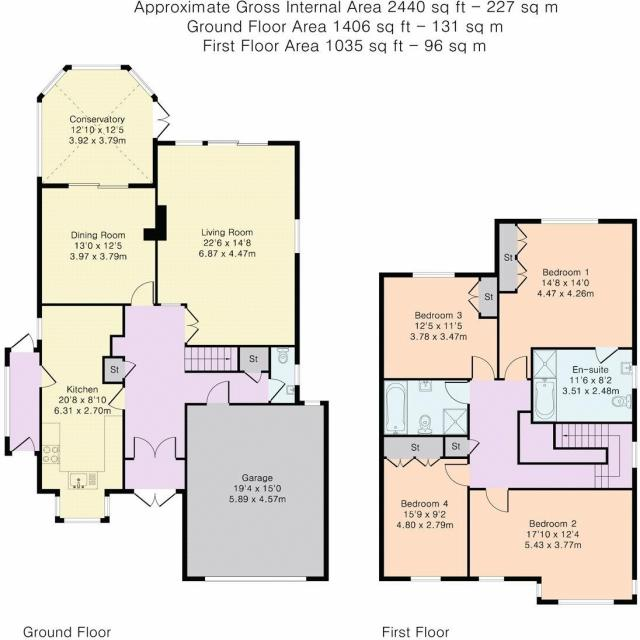DOOR: (443, 462, 470, 487), (444, 380, 470, 405), (206, 380, 231, 406), (130, 281, 155, 306), (504, 355, 528, 381), (485, 488, 509, 513), (471, 355, 495, 380), (11, 435, 36, 456), (10, 332, 35, 353), (39, 364, 58, 389), (268, 378, 287, 402), (595, 347, 619, 365), (107, 387, 125, 410)
ROOM: (152, 140, 300, 347), (494, 218, 637, 381), (467, 487, 638, 605), (36, 303, 126, 523), (37, 183, 158, 306), (379, 435, 470, 581), (379, 272, 500, 380)
SLIDING DOOR: (67, 179, 132, 191), (206, 139, 270, 147)
WINDOW: (3, 365, 11, 438), (557, 599, 615, 605), (541, 218, 599, 224), (63, 517, 101, 524), (412, 272, 455, 278), (410, 575, 442, 582), (294, 218, 300, 254), (631, 441, 638, 469), (631, 365, 638, 389), (175, 140, 203, 146), (36, 317, 43, 341), (478, 576, 505, 582), (294, 364, 300, 386), (104, 496, 110, 517), (631, 579, 638, 596), (55, 496, 60, 517), (304, 400, 321, 406), (536, 583, 542, 598), (160, 303, 181, 307)
